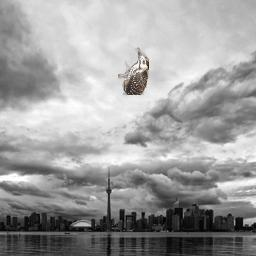Woodpecker: (118, 47, 149, 95)
